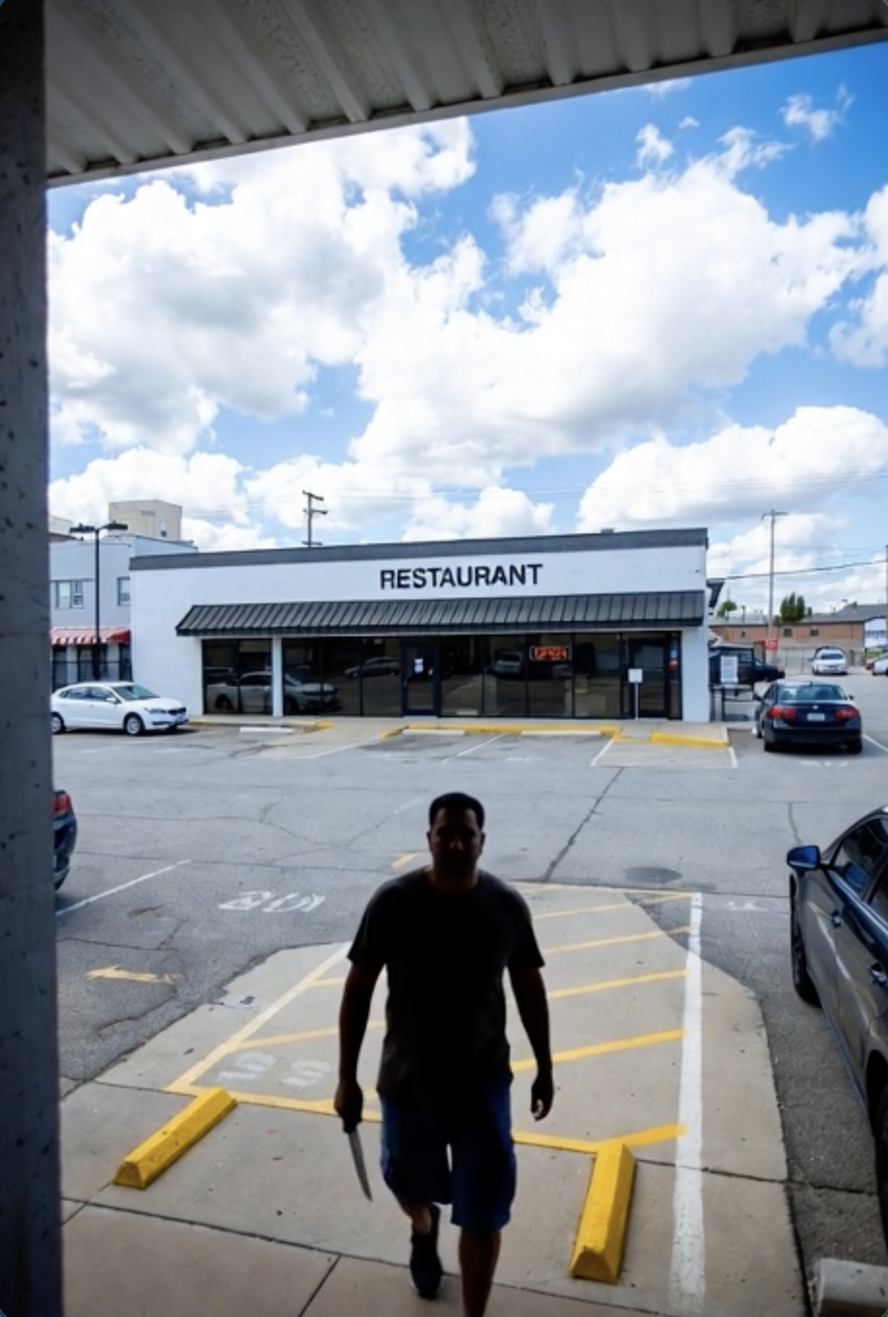Heavy Gun: (325, 784, 570, 1317)
Knife: (330, 1081, 380, 1202)
